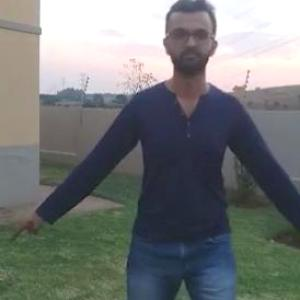land: (16, 2, 299, 299)
